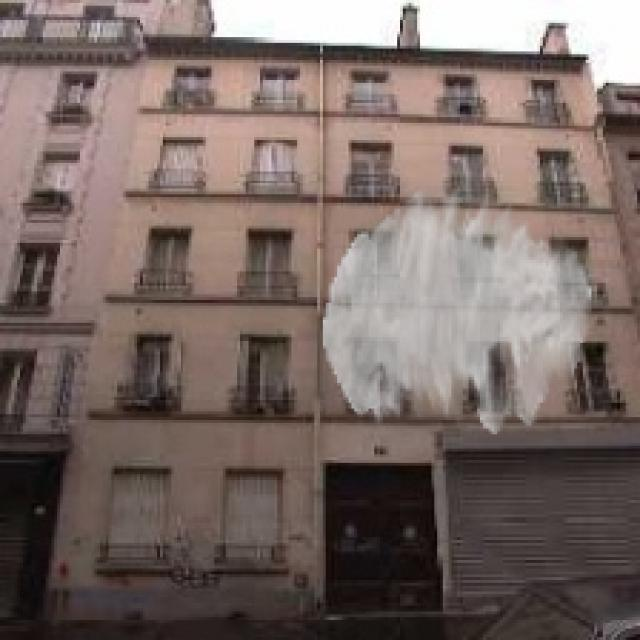Smoke: (323, 186, 591, 434)
